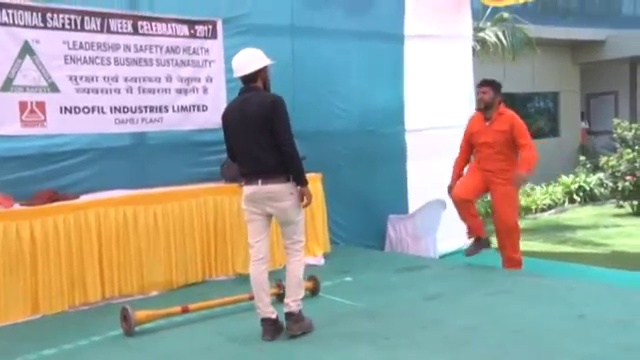helmet: (230, 46, 276, 79)
helmet_off: (472, 77, 504, 113)
helmet_on: (229, 45, 277, 93)
person: (220, 44, 316, 341), (449, 73, 538, 272)
